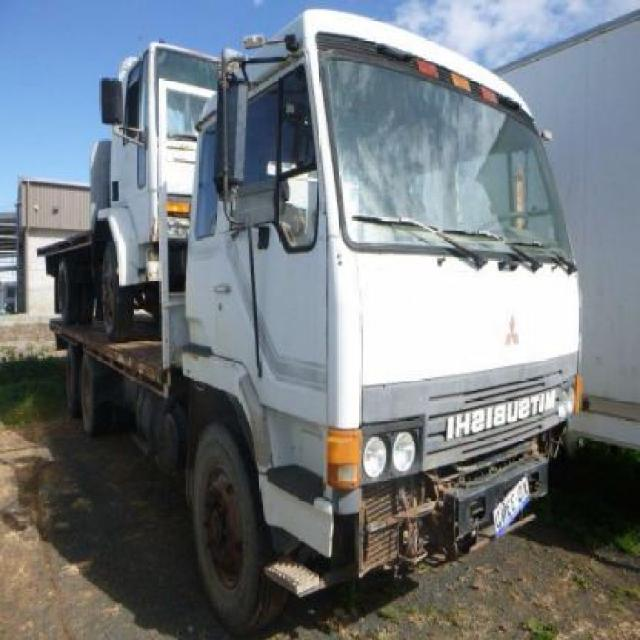truck: (40, 9, 584, 621)
